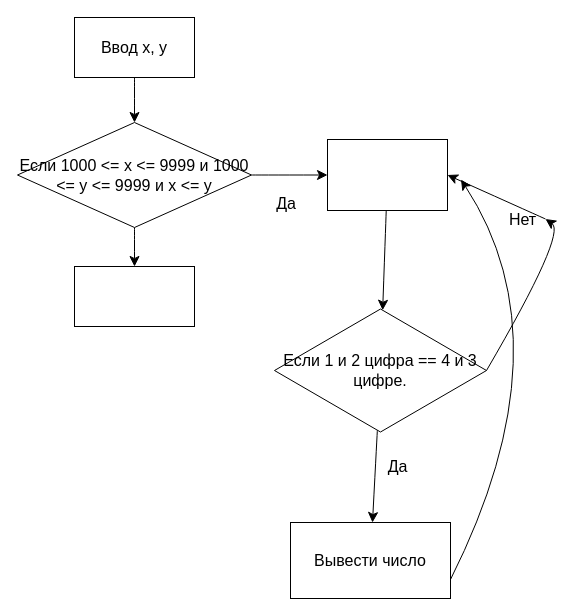
Image size: 574x616. Some labels were removed from this diagram. Each missing label, with the box of its shape:
Ошибка: (74, 266, 194, 326)
Цикл от x до y: (326, 138, 448, 210)
